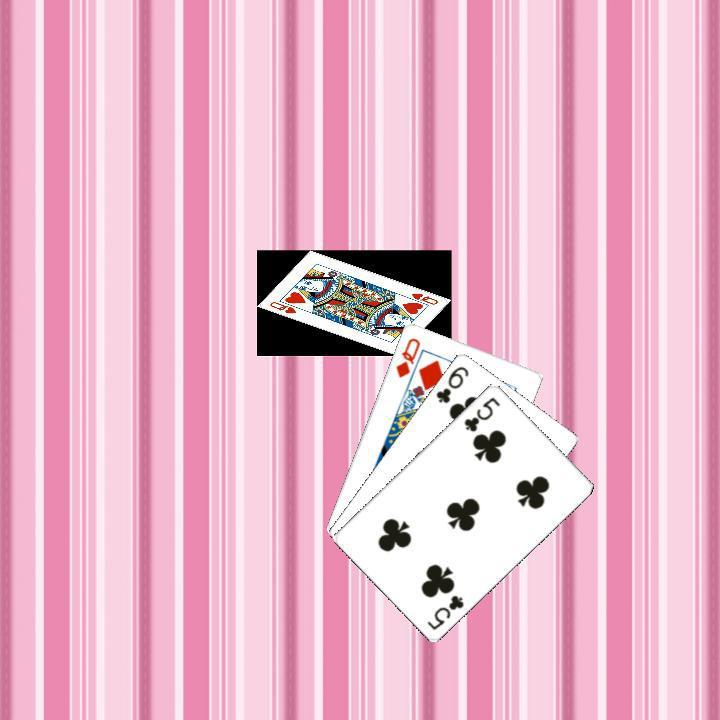5: (459, 392, 502, 434), (423, 590, 466, 632)
6: (431, 361, 471, 405)
Q: (391, 333, 422, 380)
